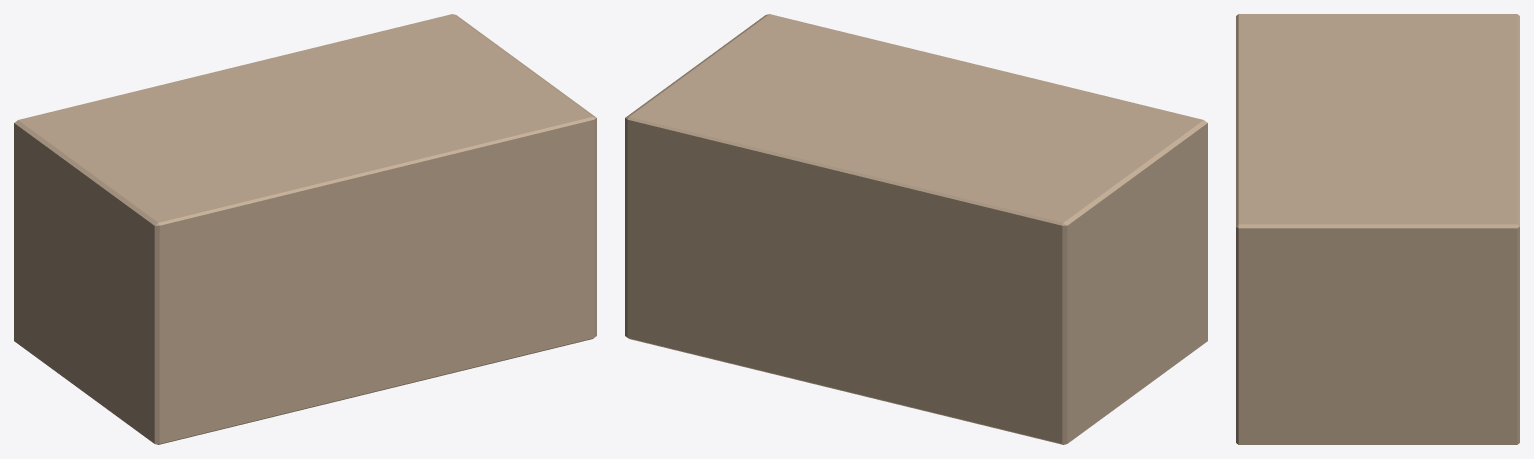
The model's file is cobble-edge-stone.glb.
3 renders of one model, left to right at view 1: azimuth 30°, elevation 25°; view 2: azimuth 150°, elevation 25°; view 3: azimuth 270°, elevation 25°, orthographic.
Visible parts, largest first — view 1: cobble-edge-stone; view 2: cobble-edge-stone; view 3: cobble-edge-stone.
Boxes of the visible parts, left/top/right/bottom form: cobble-edge-stone: left=14, top=14, right=596, bottom=444; cobble-edge-stone: left=625, top=14, right=1207, bottom=444; cobble-edge-stone: left=1236, top=14, right=1519, bottom=444.
Bounding box in the file's own units: 0.25 × 0.12 × 0.14.
